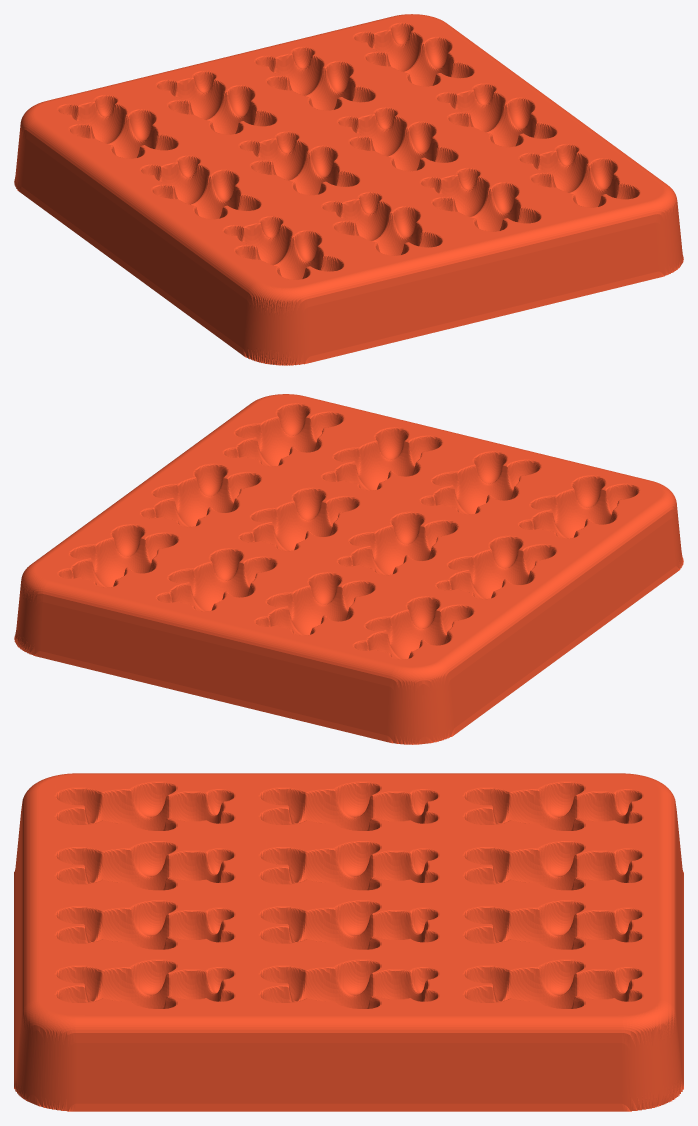
The model's file is mold.glb.
The picture shows the model from 3 angles, top to bottom: view 1: azimuth 30°, elevation 25°; view 2: azimuth 150°, elevation 25°; view 3: azimuth 270°, elevation 25°; orthographic projection. The views are drawn at different scales.
Visible parts, largest first — view 1: geometry_0; view 2: geometry_0; view 3: geometry_0.
Part boxes in pixels (x1=…): geometry_0: x1=14, y1=14, x2=683, y2=365; geometry_0: x1=14, y1=394, x2=683, y2=744; geometry_0: x1=14, y1=773, x2=683, y2=1111.
Bounding box in the file's own units: 0.0896 × 0.0136 × 0.097.
